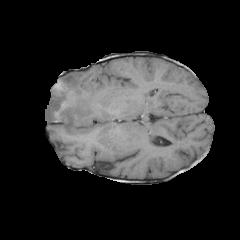glioma: (45, 72, 105, 129)
